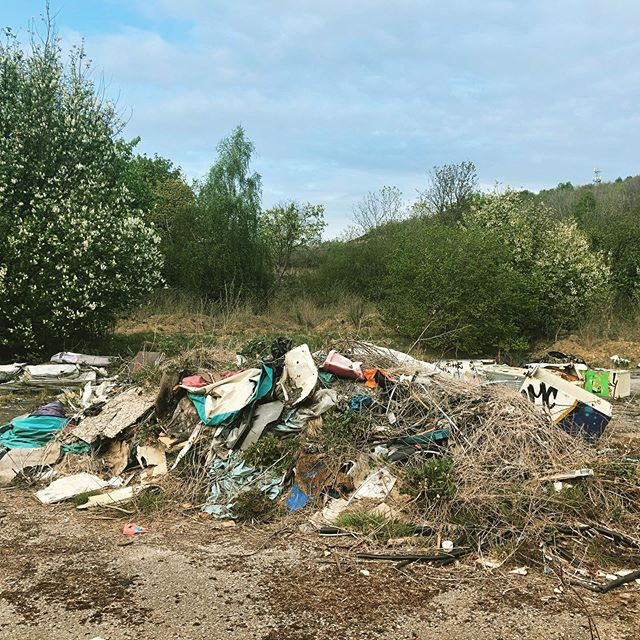sky: (10, 1, 640, 176)
trash: (31, 337, 640, 620)
tree: (1, 50, 166, 342), (369, 175, 602, 369), (157, 133, 299, 318)
